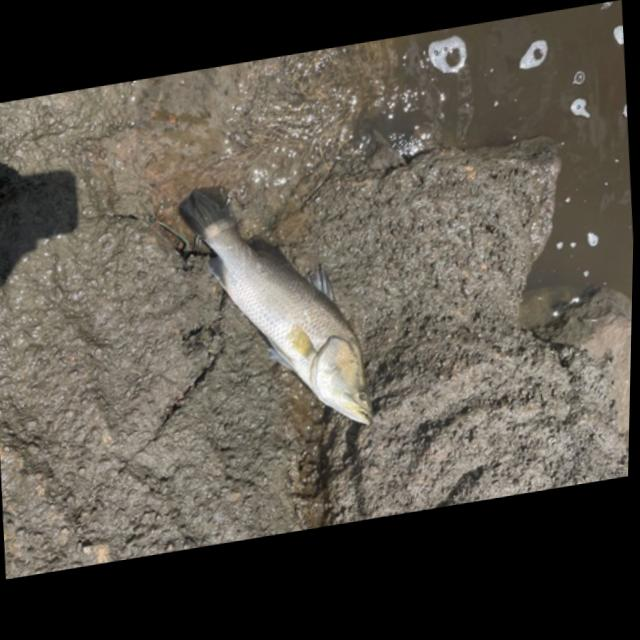Seabass: (172, 158, 377, 457)
